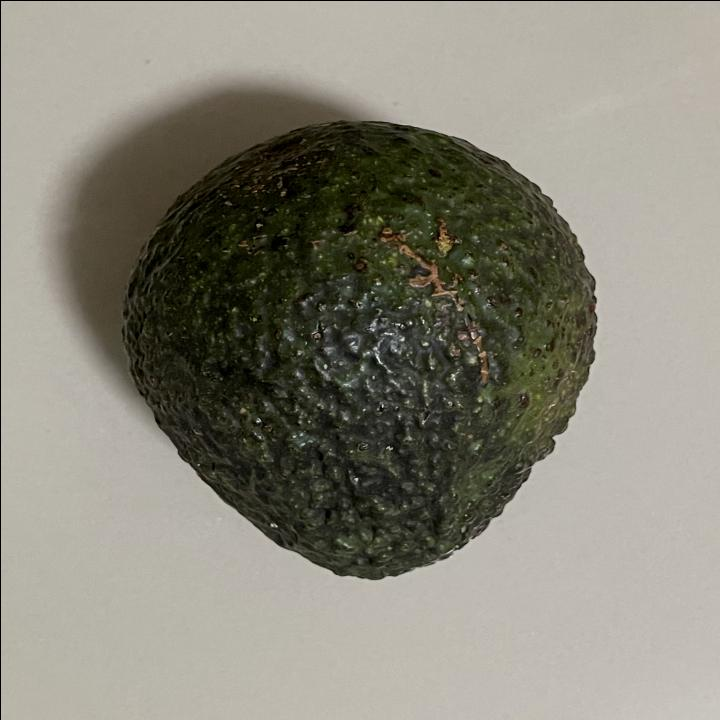Level1: (102, 101, 612, 595)
